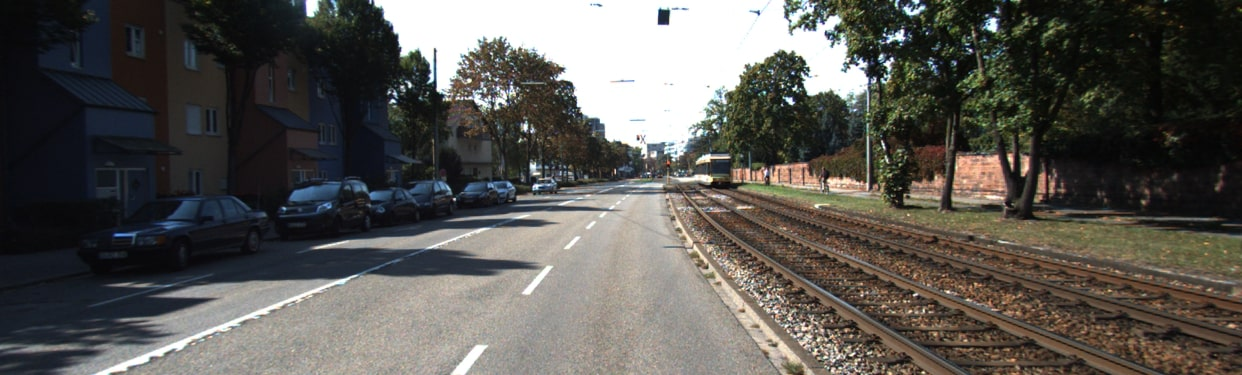Cyclist: (818, 164, 830, 195), (763, 168, 773, 188)
Tram: (685, 155, 737, 187)
car: (82, 191, 271, 277), (276, 176, 370, 236), (373, 184, 421, 227), (416, 177, 455, 224), (457, 179, 496, 213), (494, 179, 522, 206), (530, 175, 561, 196)
